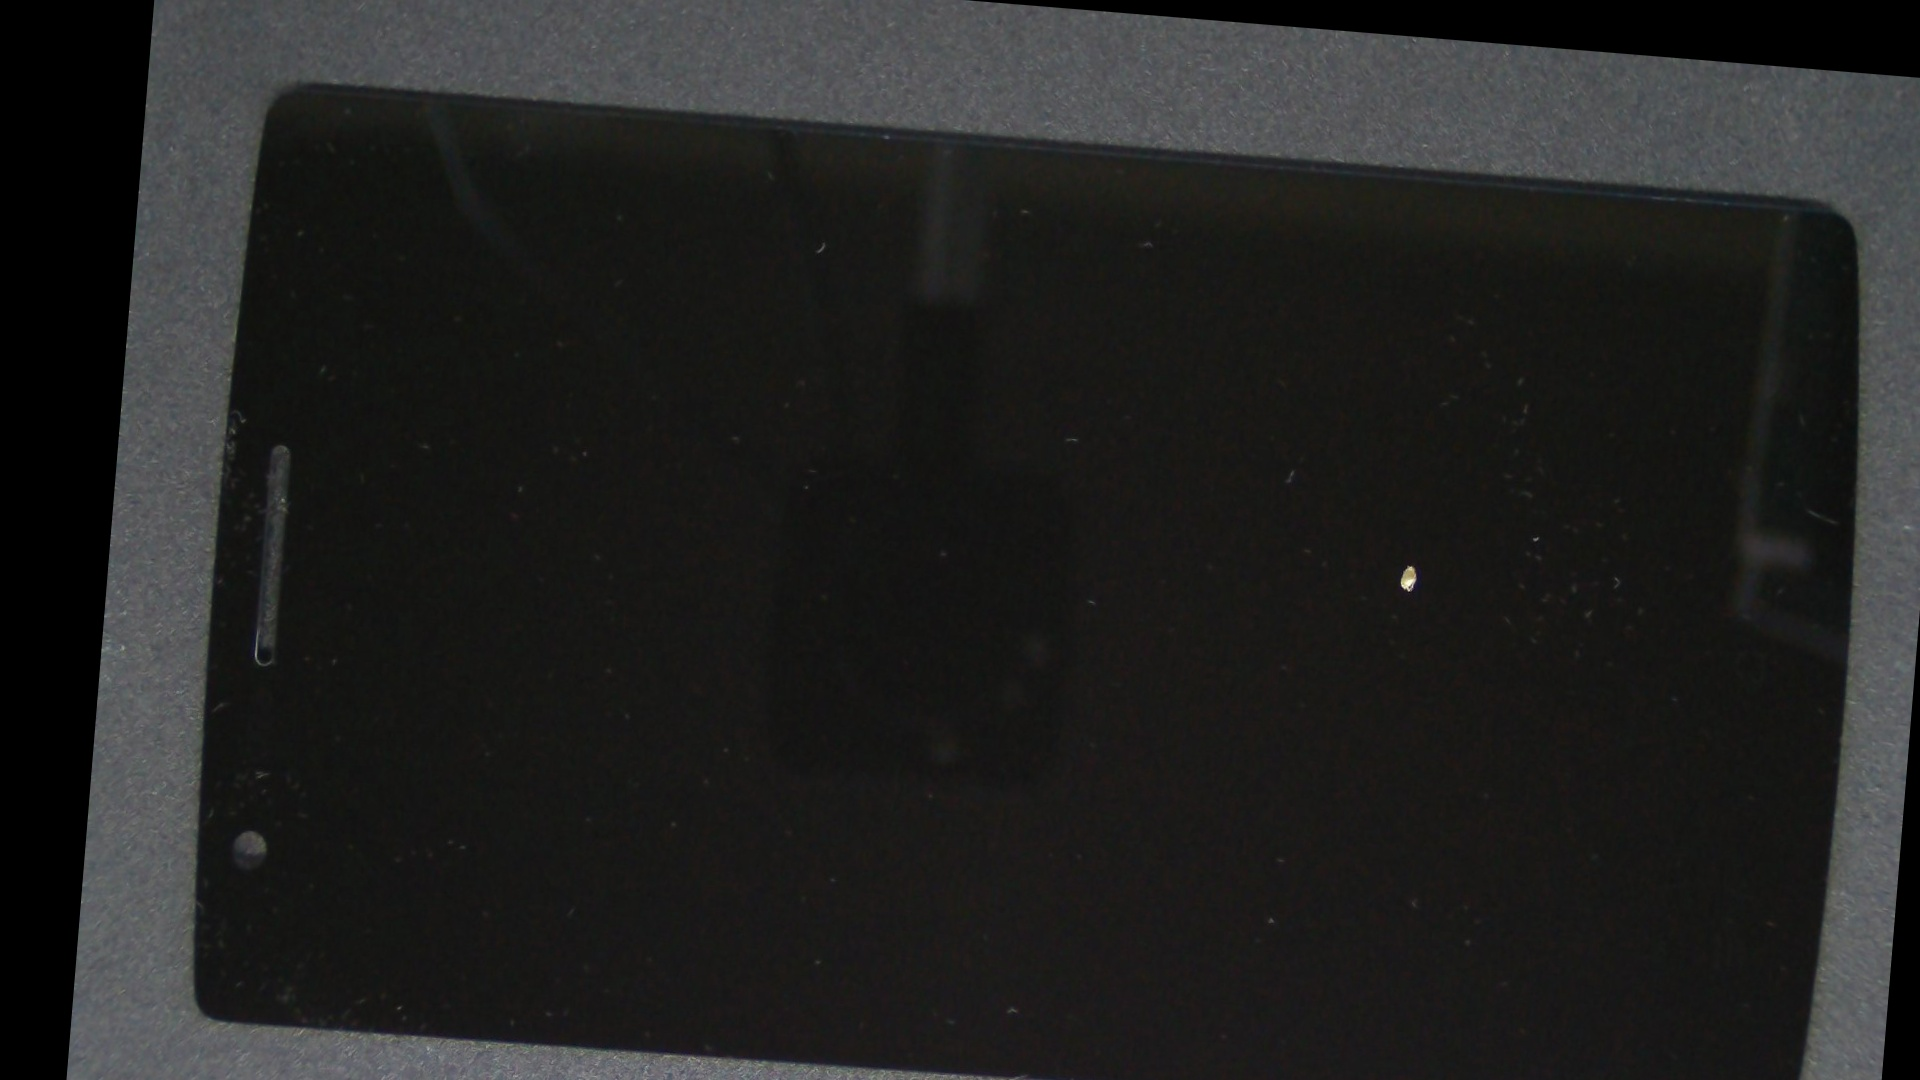oil: (742, 249, 1920, 868)
